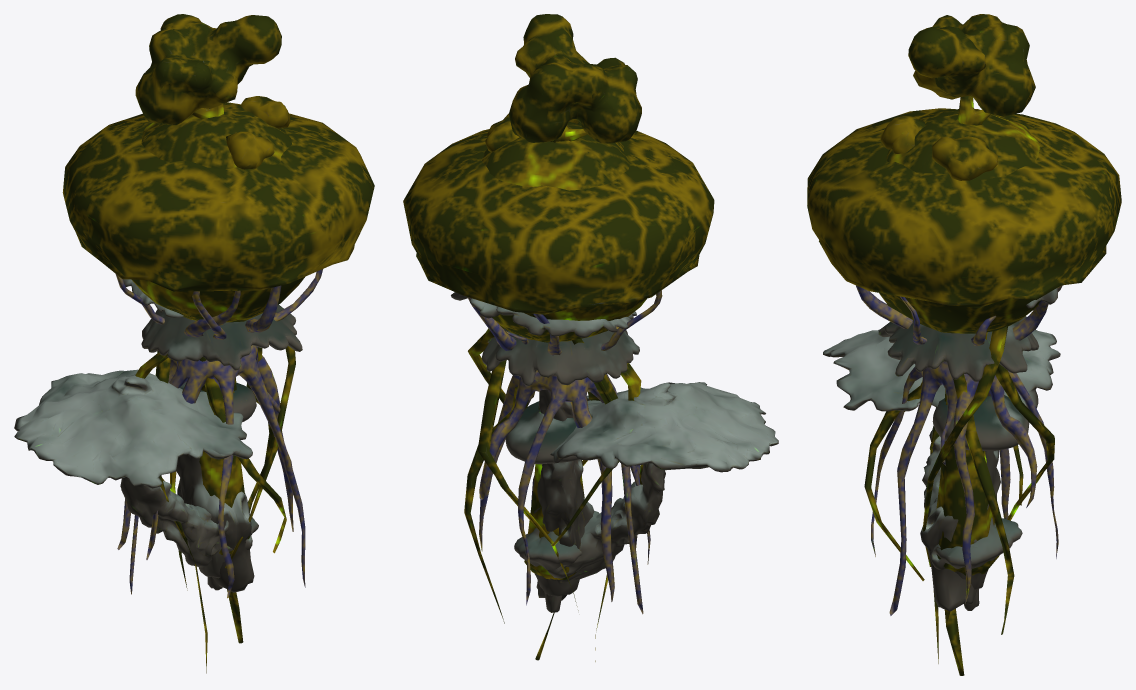
The model's file is Vegetation-Trees.fbx.
3 views of the same model, side by side, from view 1: azimuth 30°, elevation 25°; view 2: azimuth 150°, elevation 25°; view 3: azimuth 270°, elevation 25° (orthographic). The views are drawn at different scales.
Parts seen in each view (by area): view 1: AlienPlant-1, Mushroom-3, AlienPlant-2, Tree-2, Mushroom-2, Mushroom-1, Mushroom-4; view 2: AlienPlant-1, Mushroom-3, AlienPlant-2, Tree-2, Mushroom-1, Mushroom-2, Mushroom-4; view 3: AlienPlant-1, AlienPlant-2, Tree-2, Mushroom-3, Mushroom-2, Mushroom-4, Mushroom-1.
Part boxes in pixels (<box>): AlienPlant-1: <box>62,102,374,673</box>; Mushroom-3: <box>14,369,252,567</box>; AlienPlant-2: <box>115,102,322,598</box>; Tree-2: <box>135,14,290,554</box>; Mushroom-2: <box>141,304,302,578</box>; Mushroom-1: <box>123,279,254,592</box>; Mushroom-4: <box>179,382,258,590</box>; AlienPlant-1: <box>403,129,714,661</box>; Mushroom-3: <box>547,382,778,582</box>; AlienPlant-2: <box>467,121,662,614</box>; Tree-2: <box>485,14,641,579</box>; Mushroom-1: <box>451,292,636,600</box>; Mushroom-2: <box>481,328,639,596</box>; Mushroom-4: <box>505,401,582,612</box>; AlienPlant-1: <box>807,108,1121,675</box>; AlienPlant-2: <box>856,109,1062,615</box>; Tree-2: <box>880,14,1035,575</box>; Mushroom-3: <box>823,329,1060,542</box>; Mushroom-2: <box>878,316,1038,589</box>; Mushroom-4: <box>932,395,1029,610</box>; Mushroom-1: <box>920,288,1057,611</box>.
Bounding box in the file's own units: 1.77 × 3.32 × 1.43.
Materials: 1 (1 with a texture image).
